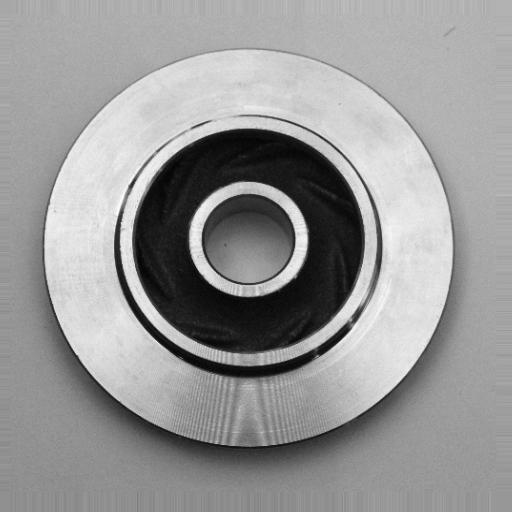unpolished_casting: (40, 44, 457, 453)
